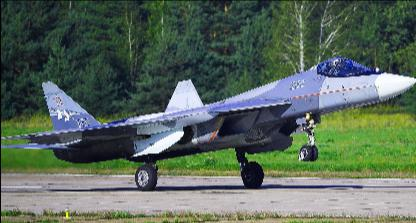SR71: (1, 56, 415, 192)
